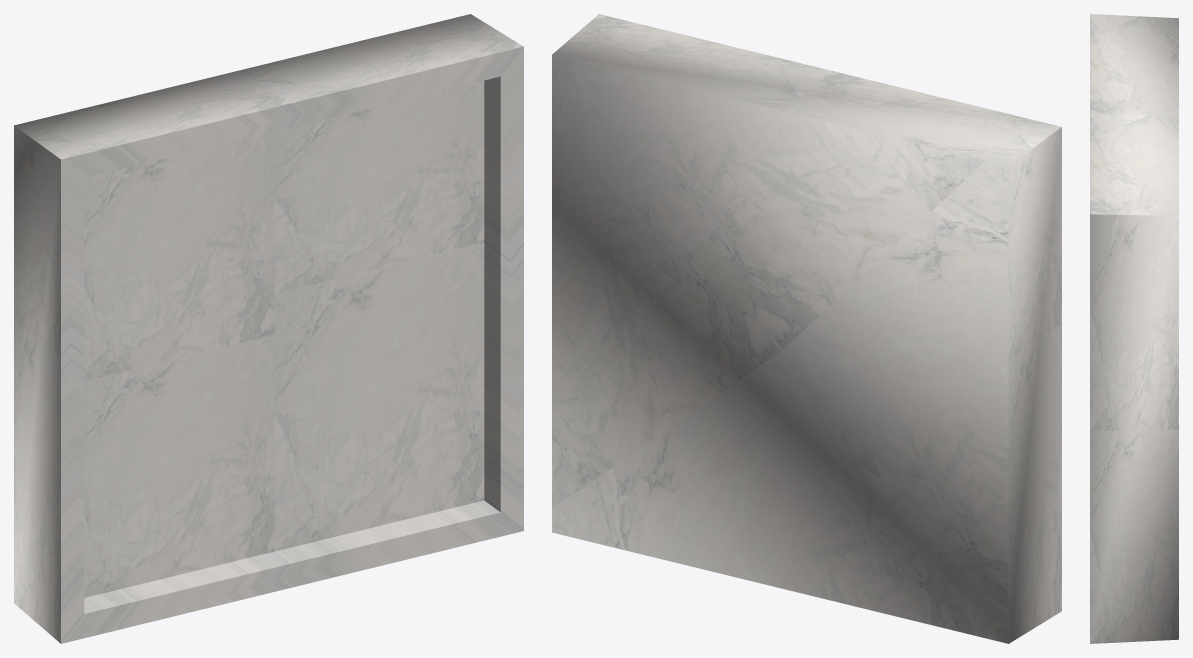
Rendered from wall_ver3.FBX.
3 renders of one model, left to right at view 1: azimuth 30°, elevation 25°; view 2: azimuth 150°, elevation 25°; view 3: azimuth 270°, elevation 25°, orthographic. The views are drawn at different scales.
Visible parts, largest first — view 1: Box001; view 2: Box001; view 3: Box001.
Boxes of the visible parts, bbox=[...] form: Box001: bbox=[14, 14, 523, 643]; Box001: bbox=[552, 14, 1061, 643]; Box001: bbox=[1090, 14, 1178, 643].
Size of the model in its own units: 40 by 40 by 7.5.
